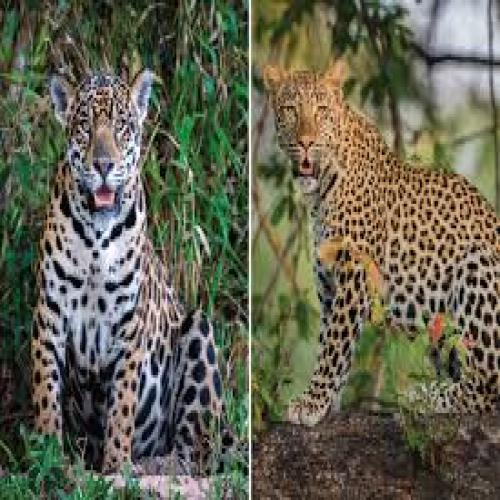jaguar_not-endangered: (274, 65, 499, 411), (40, 71, 220, 473)
